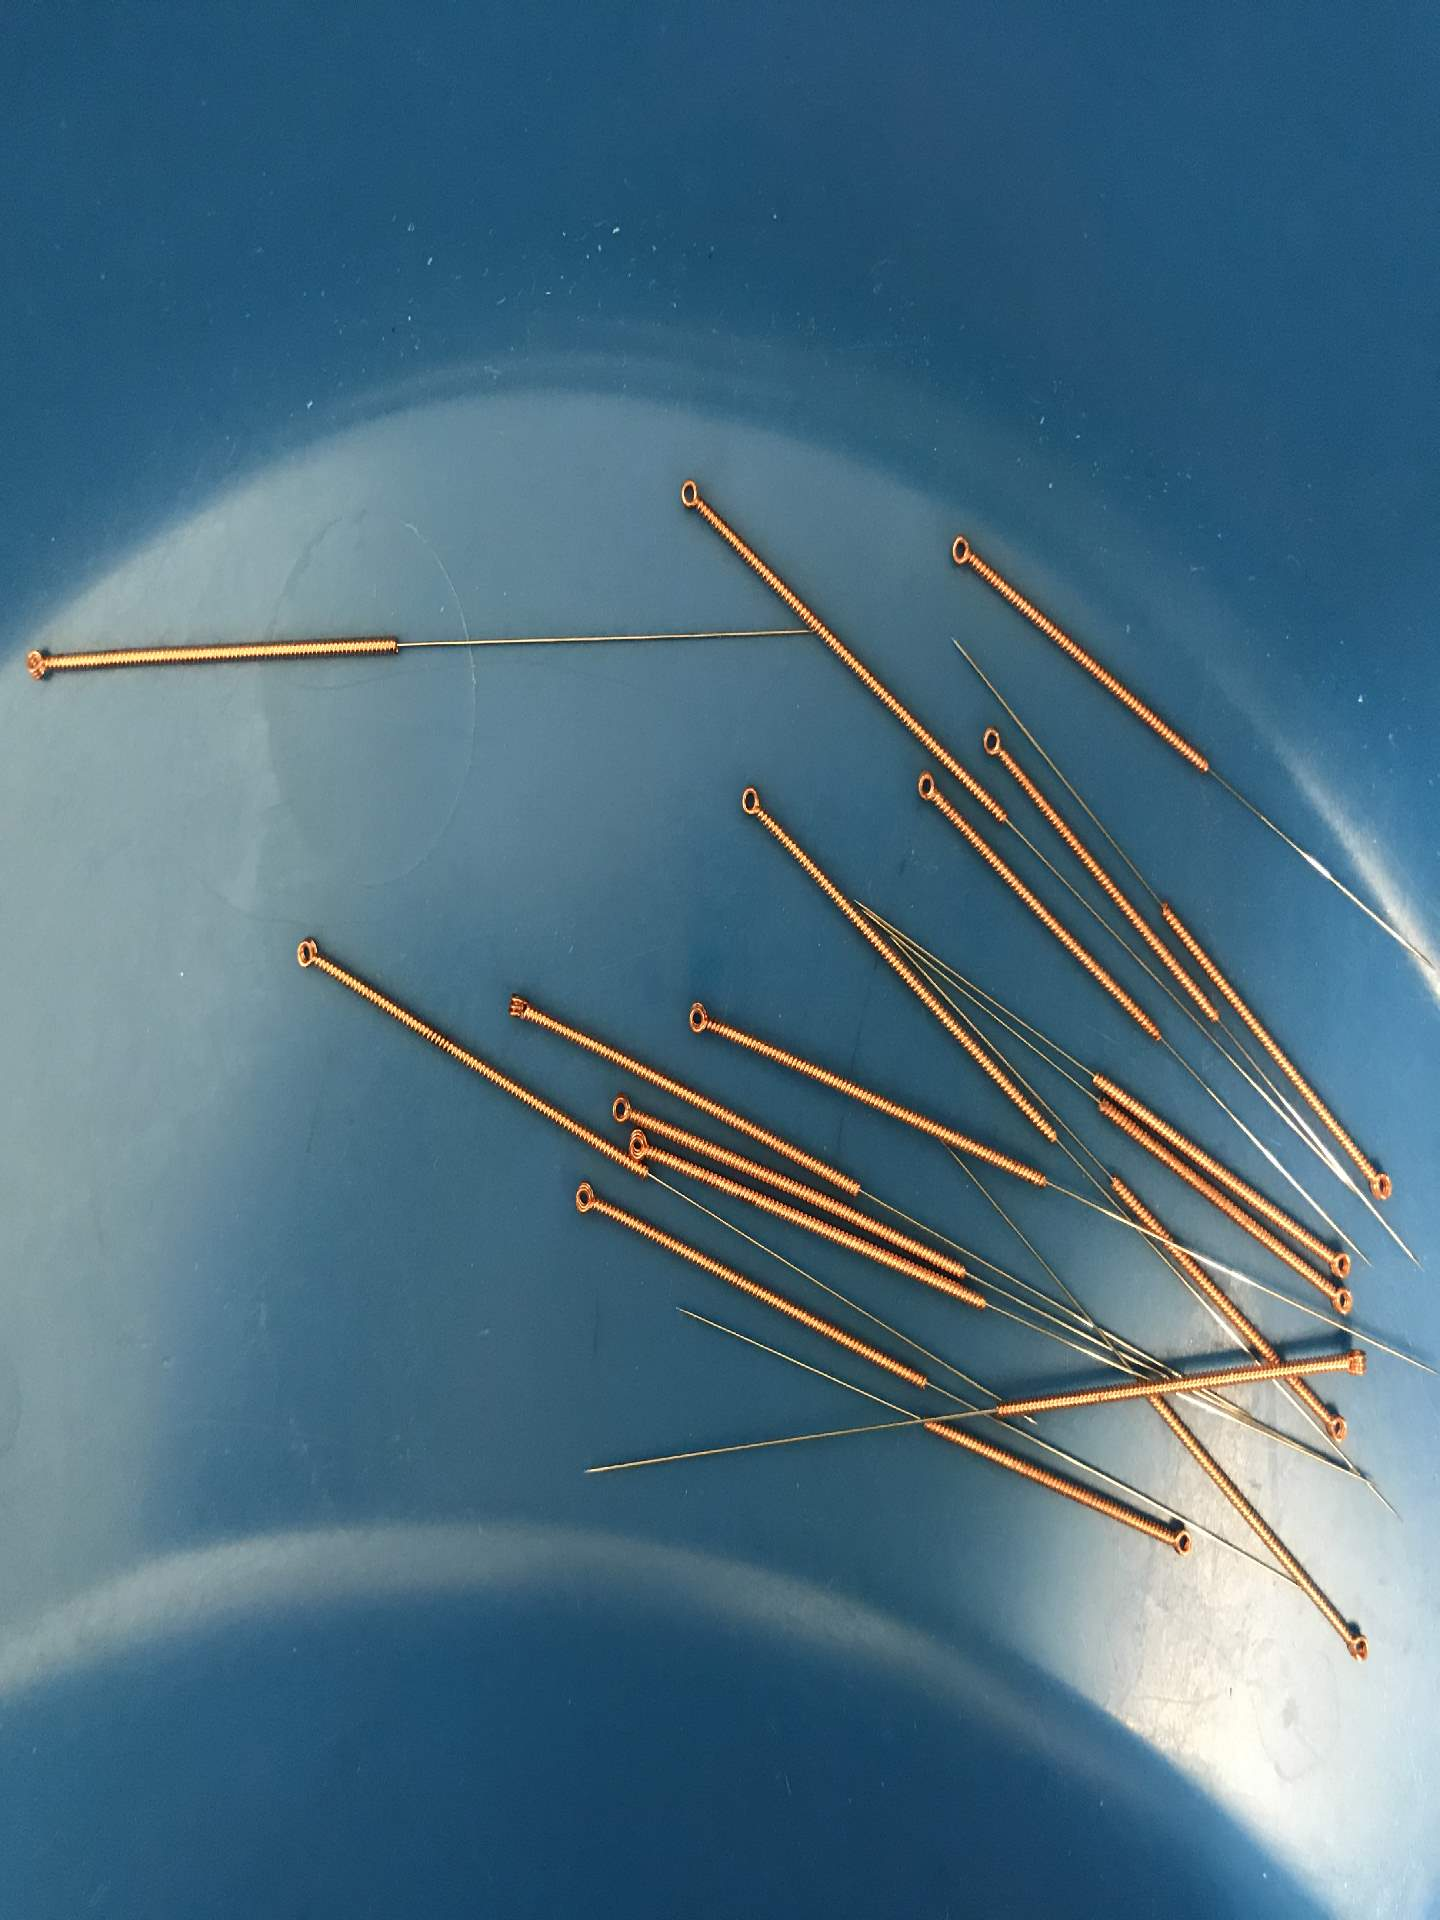needle: (666, 469, 714, 525), (284, 930, 334, 983), (1355, 1154, 1399, 1211), (939, 528, 988, 579), (14, 641, 64, 689), (675, 995, 722, 1043), (1317, 1277, 1364, 1324), (561, 1178, 610, 1223), (499, 986, 545, 1033), (731, 779, 773, 828), (973, 717, 1013, 766), (1317, 1237, 1358, 1284), (1159, 1519, 1199, 1565), (908, 763, 947, 810), (1336, 1621, 1375, 1668), (1330, 1341, 1373, 1382), (605, 1090, 646, 1131), (1316, 1404, 1352, 1445), (625, 1123, 658, 1166)
